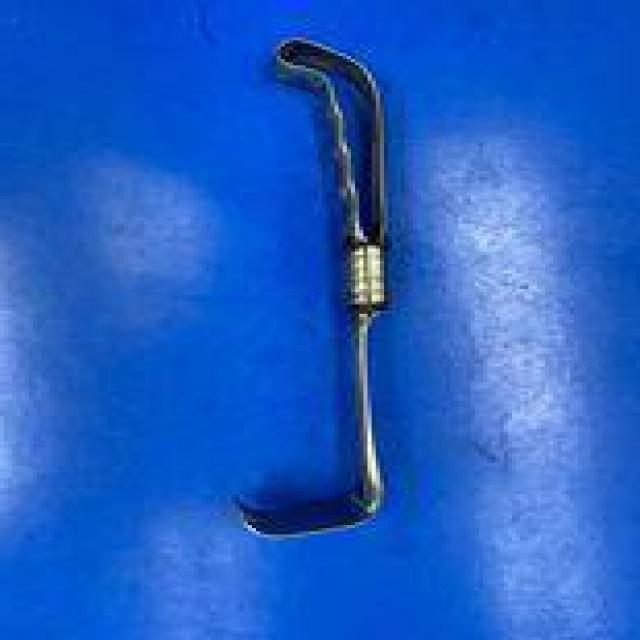Richardson: (226, 37, 396, 544)
